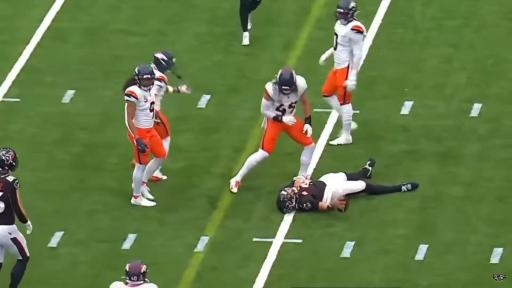Helmet: (134, 64, 155, 91), (277, 187, 298, 213), (276, 67, 296, 94), (152, 51, 175, 73), (126, 260, 147, 284), (336, 0, 356, 24), (0, 148, 18, 171)
Jersey: (265, 75, 307, 116), (334, 21, 366, 69), (0, 171, 28, 225), (125, 86, 155, 128), (296, 181, 326, 211), (298, 181, 326, 211), (151, 68, 167, 110), (110, 282, 157, 287)
Player: (230, 67, 315, 193), (277, 159, 418, 213), (320, 0, 366, 145), (124, 64, 166, 206), (0, 148, 32, 287), (151, 51, 190, 153), (110, 261, 157, 287), (239, 0, 261, 46)
